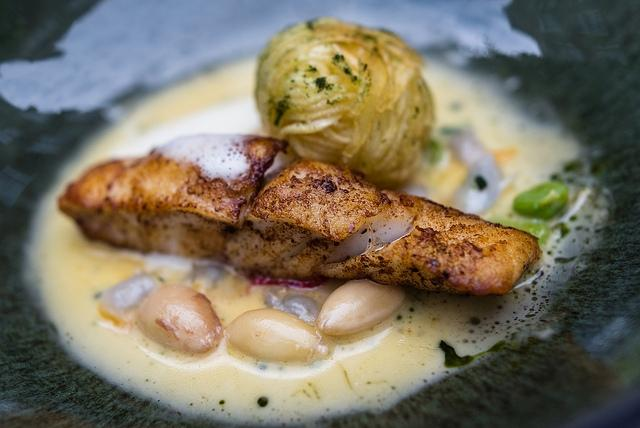brussels sprouts: (254, 16, 433, 192)
garlic: (136, 285, 222, 355), (316, 276, 410, 336), (226, 308, 328, 362)
